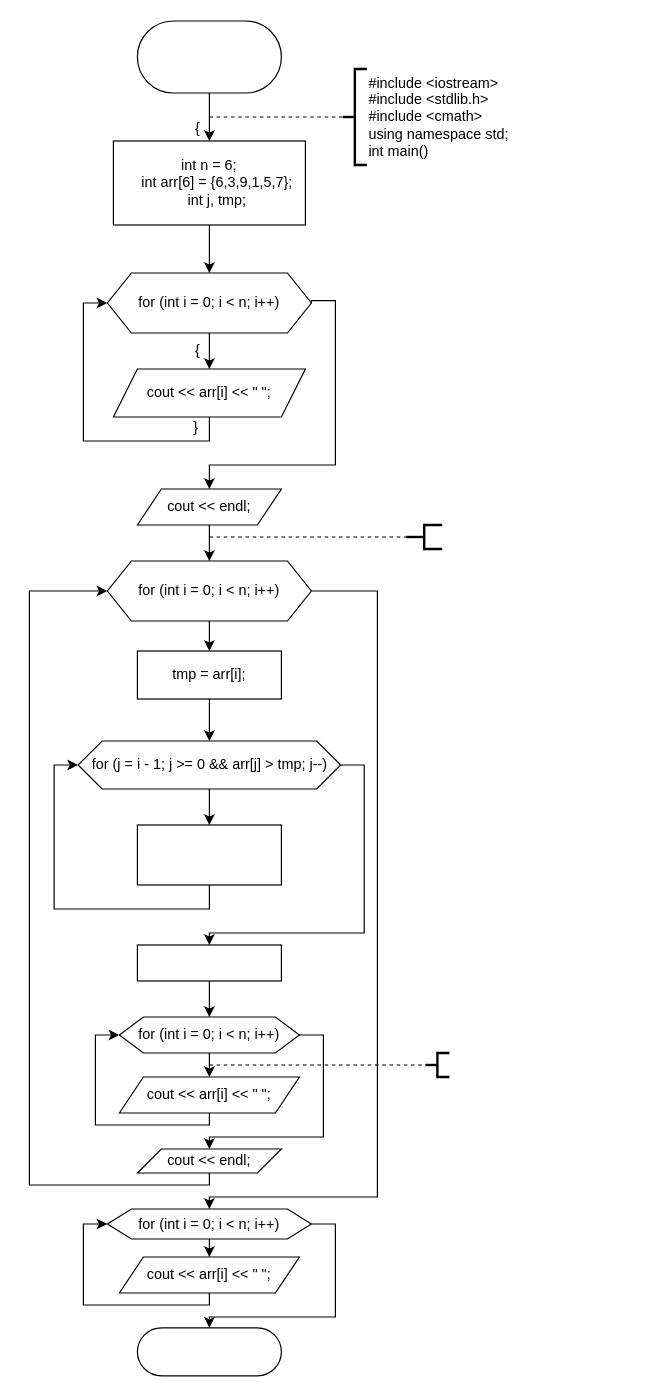
Image size: 666x1397. Some labels were removed from this diagram. Here are the shapes that lost their labels. From the top down, the centre of each, then its label:
At [208,56]: "Начало".
At [423,536]: "// Сортировка вставками".
At [208,854]: "arr[j + 1] = arr[j]; arr[j] = -1;".
At [208,962]: "arr[j + 1] = tmp;".
At [437,1064]: "// Вывод после каждого шага".
At [208,1351]: "Конец".
